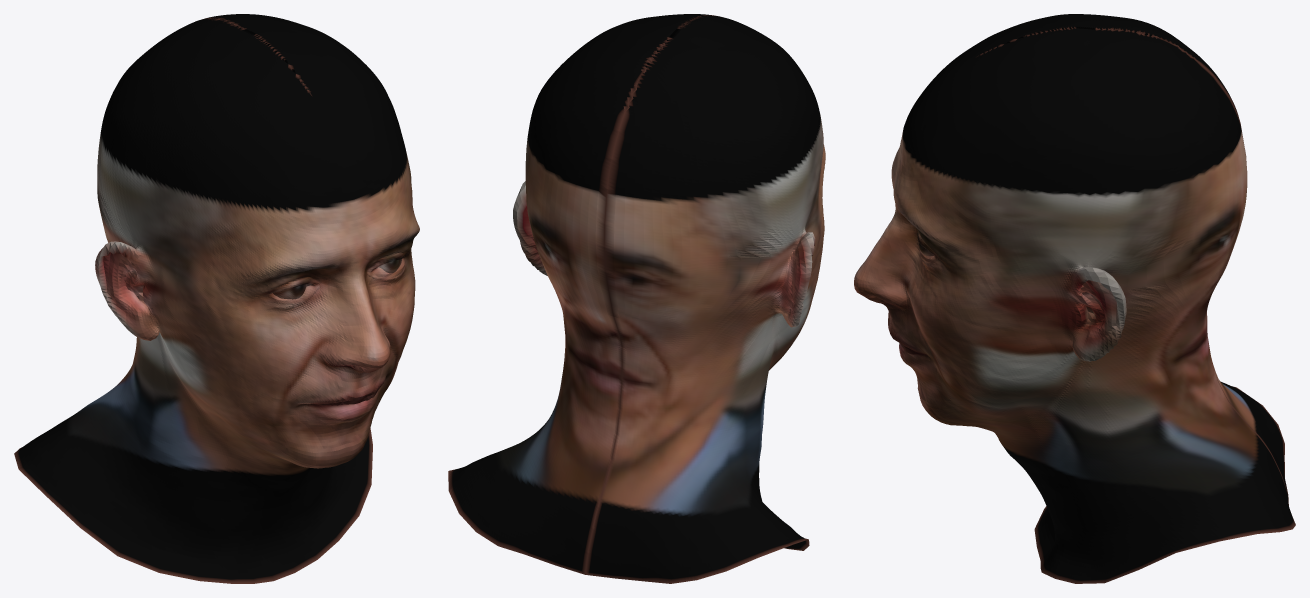
Rendered from mesh_coarse_detail.obj.
The picture shows the model from 3 angles, left to right: view 1: azimuth 30°, elevation 25°; view 2: azimuth 150°, elevation 25°; view 3: azimuth 270°, elevation 25°; orthographic projection.
Size of the model in its own units: 0.2162 by 0.326 by 0.245.
